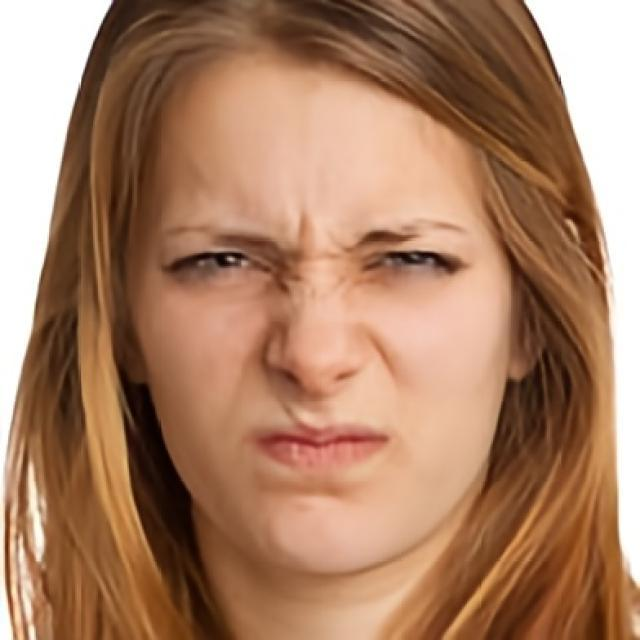disgust: (127, 42, 511, 578)
